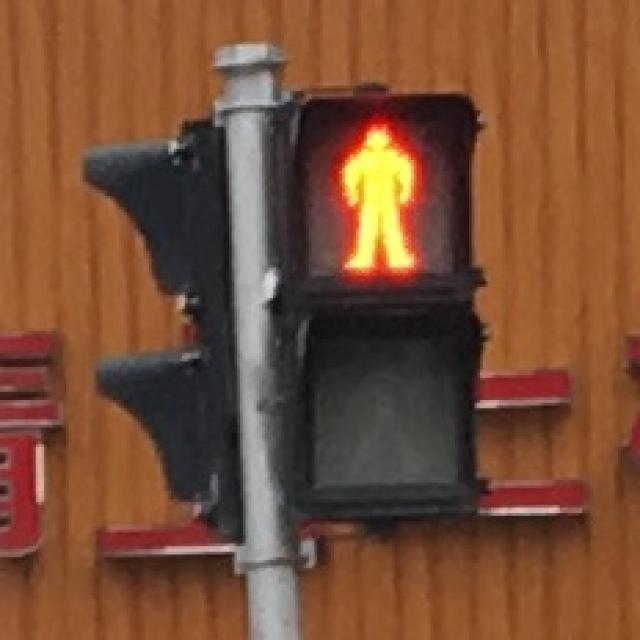red-crossing: (298, 96, 463, 278)
